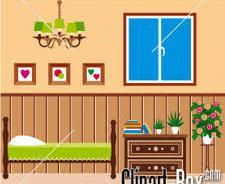pottedplant: (189, 98, 222, 145), (165, 110, 184, 135), (152, 119, 166, 135)
